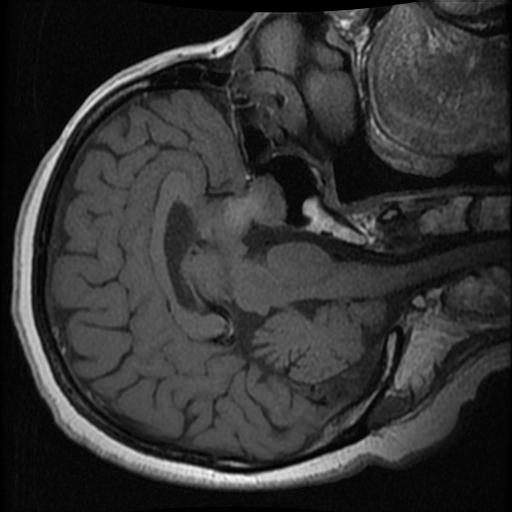pituitary tumour: (221, 174, 289, 237)
